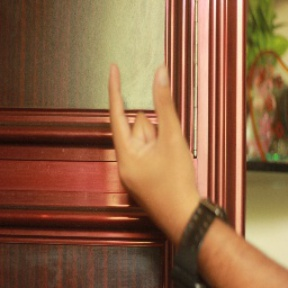U: (102, 55, 192, 193)
